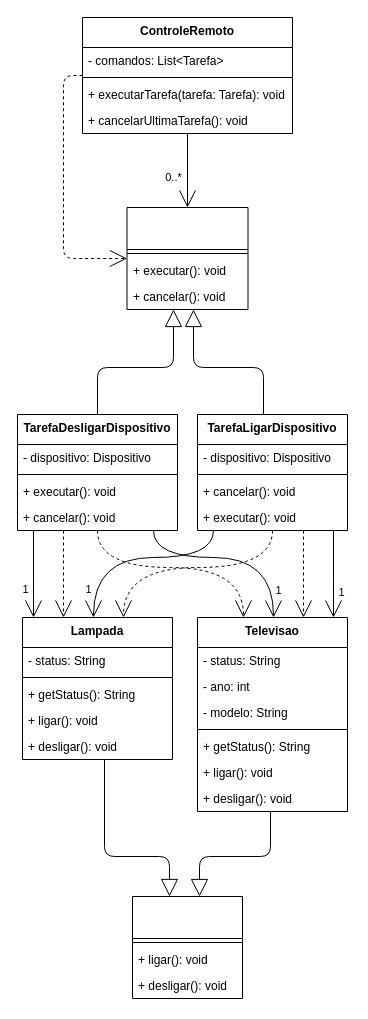
Image size: 368x1019. Some labels were removed from this diagram. Each missing label, with the box of its shape:
<<interface>> Dispositivo: (132, 896, 242, 998)
<<interface>> Tarefa: (126, 206, 248, 310)
